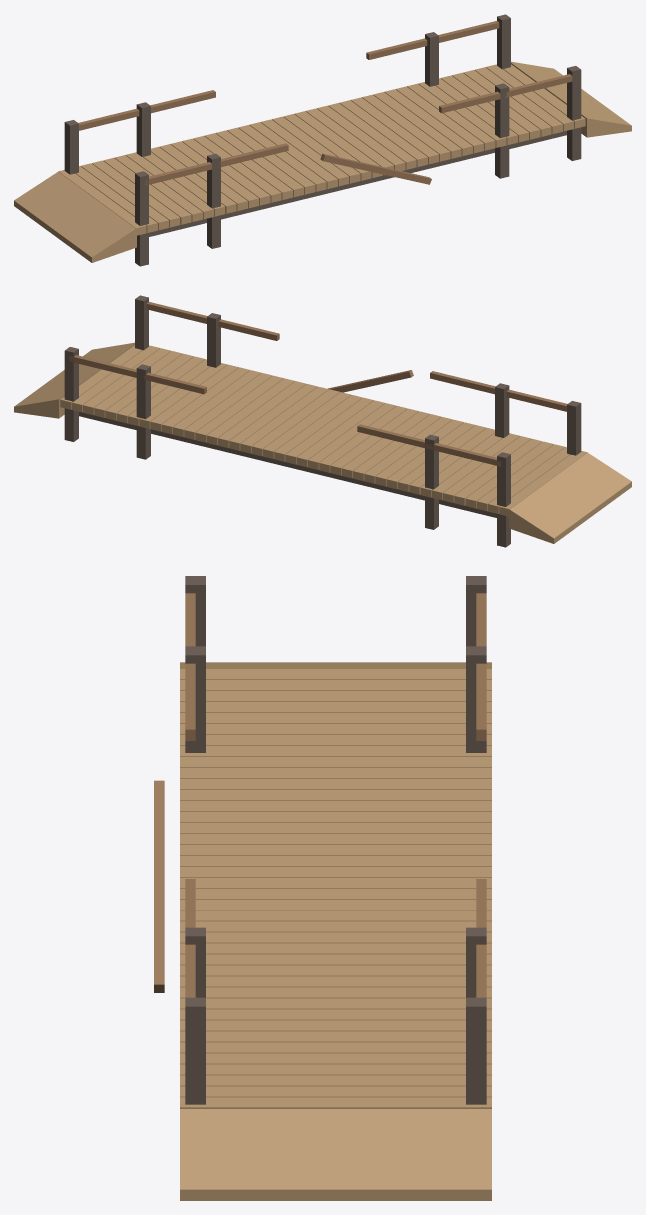
Rendered from bridge_wood_damaged.glb.
3 views of the same model, one above another, from view 1: azimuth 30°, elevation 25°; view 2: azimuth 150°, elevation 25°; view 3: azimuth 270°, elevation 25° (orthographic). The views are drawn at different scales.
Parts seen in each view (by area): view 1: bridge_wood_damaged; view 2: bridge_wood_damaged; view 3: bridge_wood_damaged.
Boxes of the visible parts, x1,y1,x2,y2 form: bridge_wood_damaged: (14,14,631,266); bridge_wood_damaged: (14,295,631,547); bridge_wood_damaged: (154,576,491,1200).
Bounding box in the file's own units: 12 × 1.9 × 3.25.
